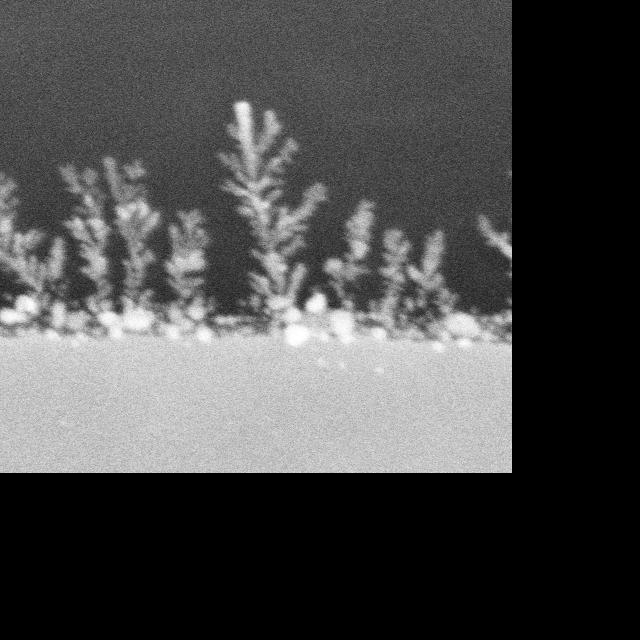Dendrite: (212, 101, 511, 344), (61, 156, 211, 334), (0, 170, 124, 337), (61, 165, 124, 334), (477, 214, 511, 281)
